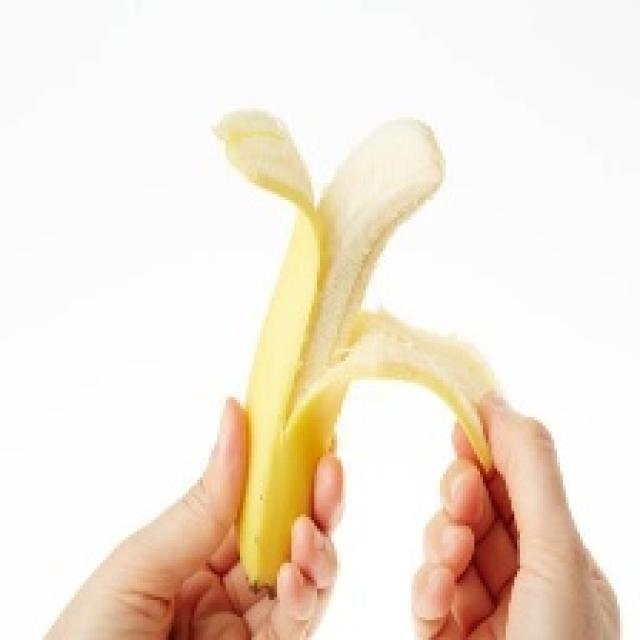Banana: (208, 106, 506, 591)
